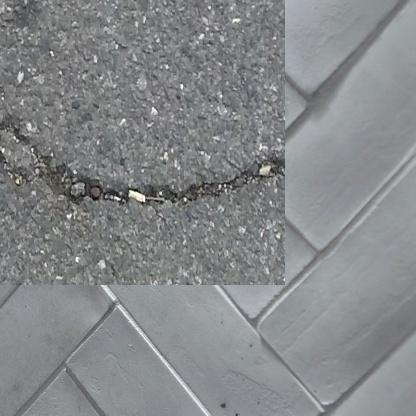Cracks: (0, 101, 263, 193)
